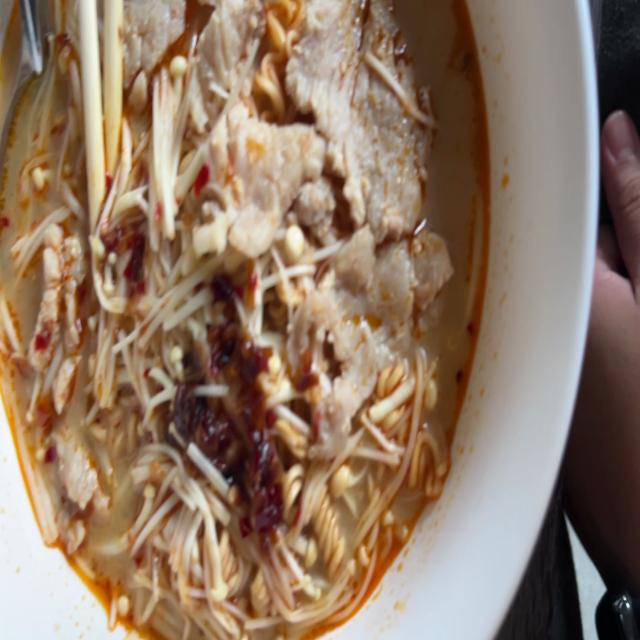noodle: (0, 0, 490, 640)
